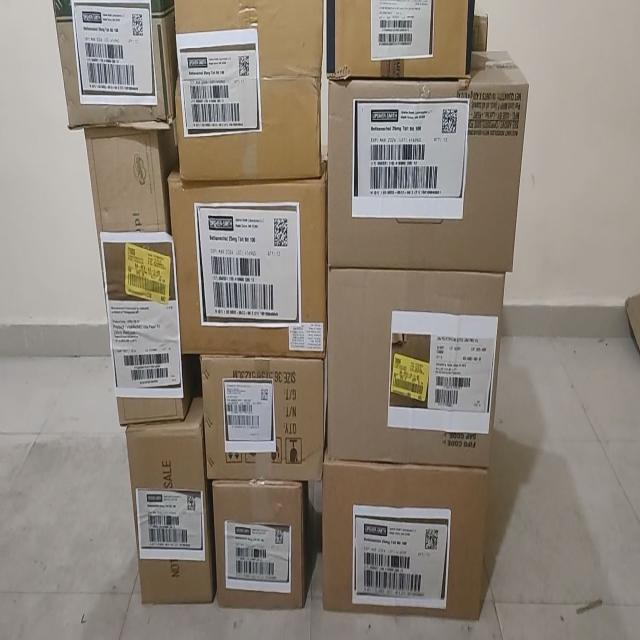BoxFace: (326, 47, 530, 272), (325, 266, 505, 468), (167, 160, 327, 356), (83, 123, 187, 424), (321, 452, 491, 622), (172, 0, 323, 181), (124, 396, 216, 604), (199, 353, 325, 481), (52, 0, 176, 130), (212, 477, 308, 610), (326, 0, 476, 80)
